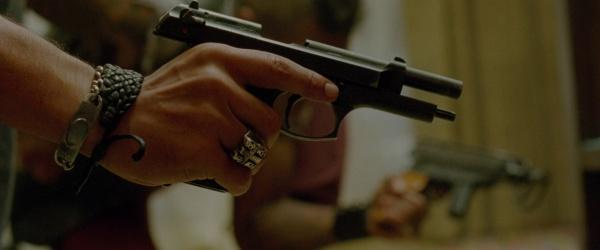Gun: (152, 0, 462, 191)
